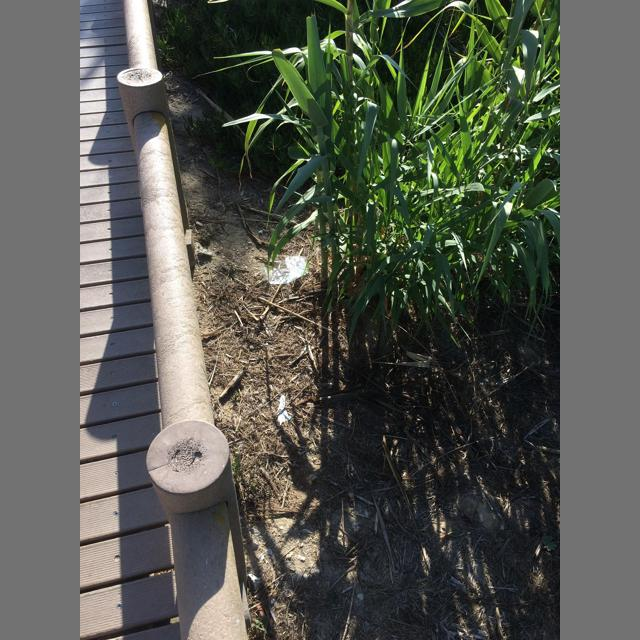litter: (264, 256, 307, 284), (278, 394, 292, 426)
